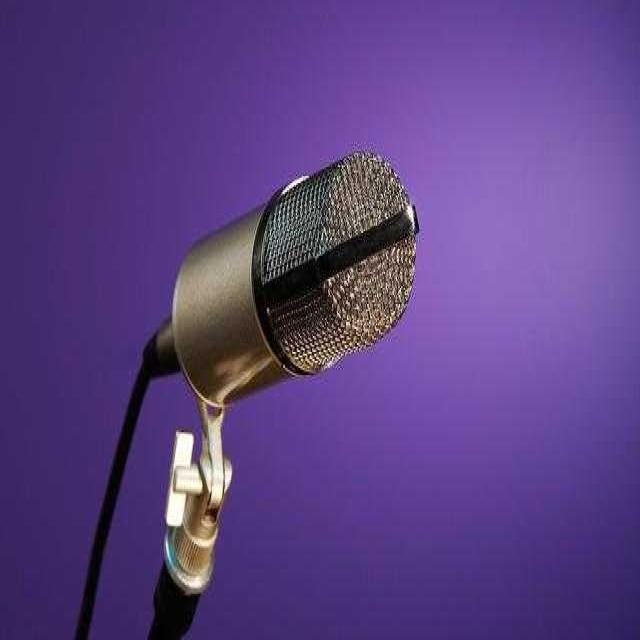microphone: (163, 152, 414, 421)
